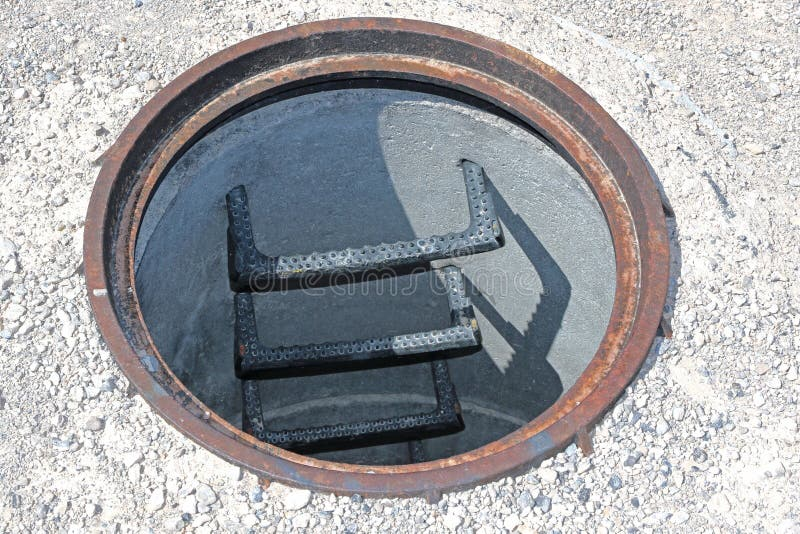Open_manhole: (67, 13, 688, 500)
